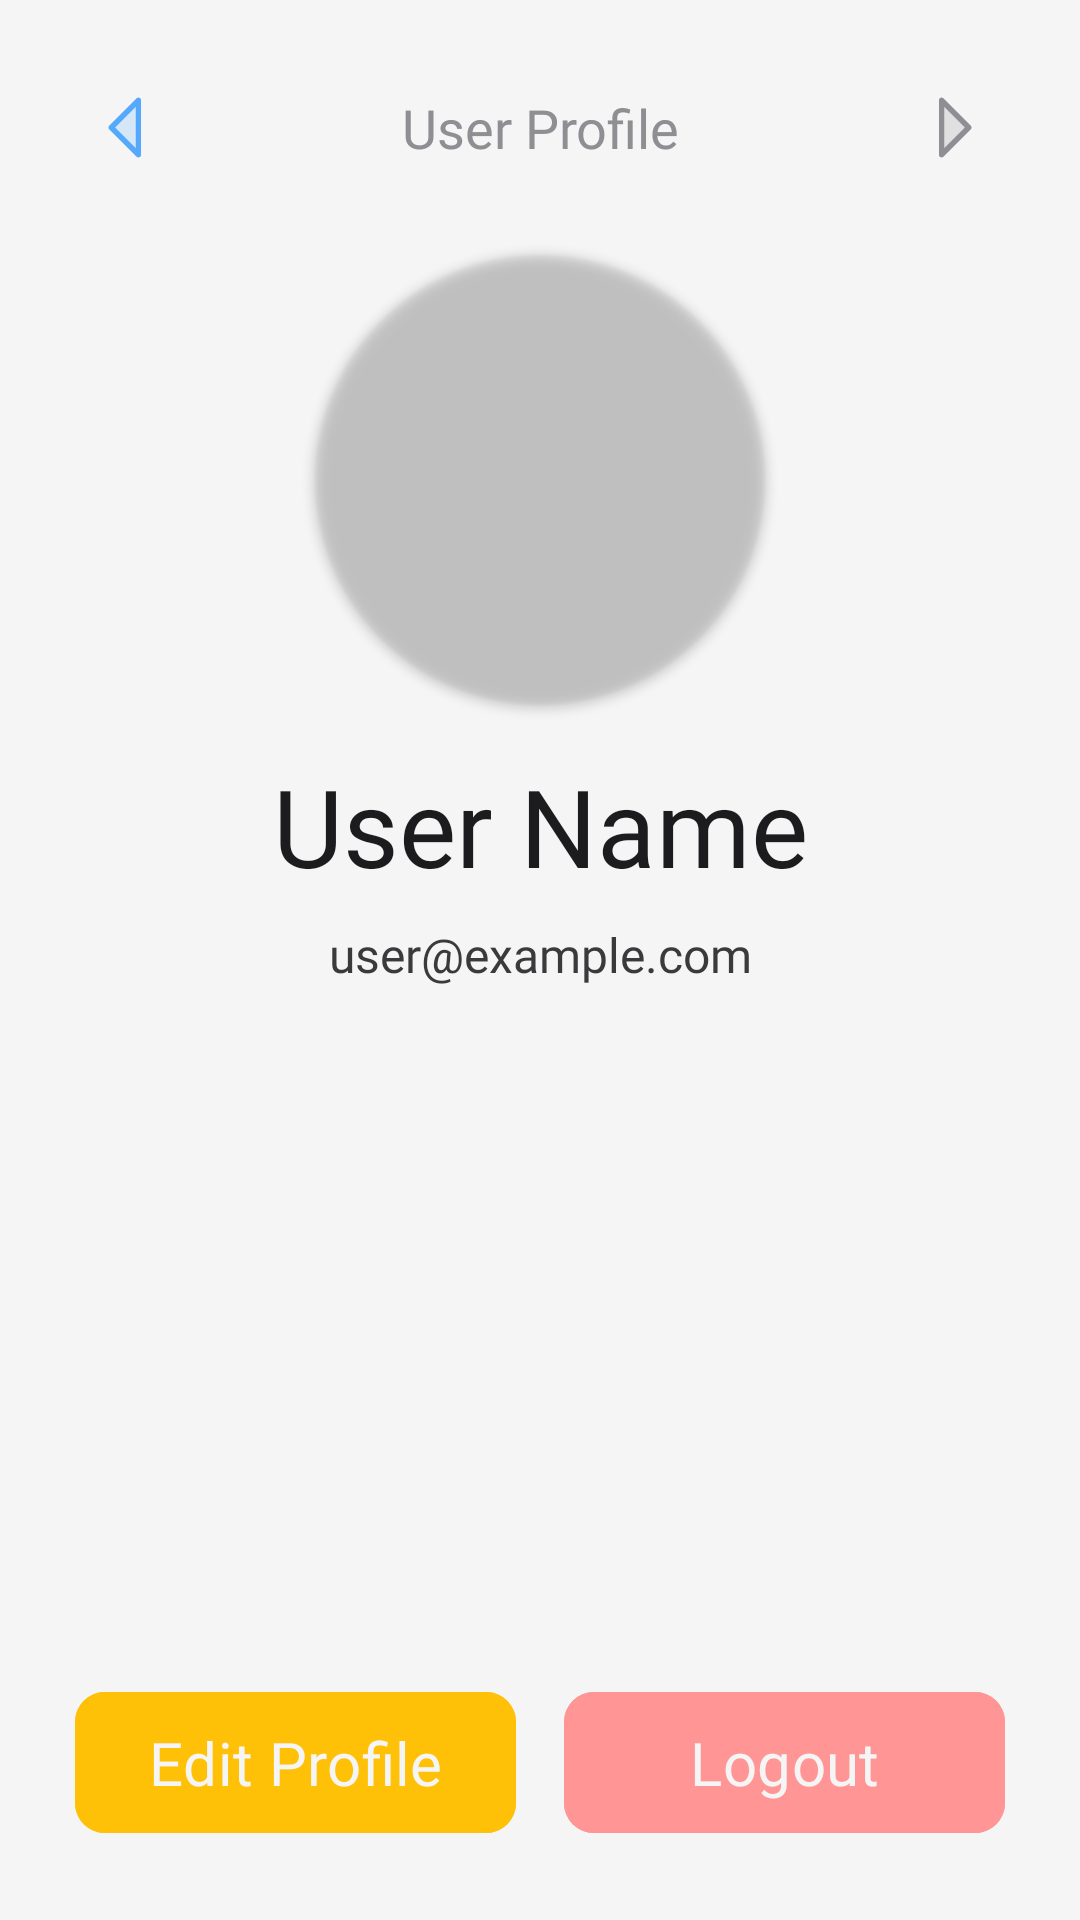

Screen size 1080px×1920px. Icon name, then its center in pixels as (x,y):
arrow left: (124,127)
arrow right: (955,127)
